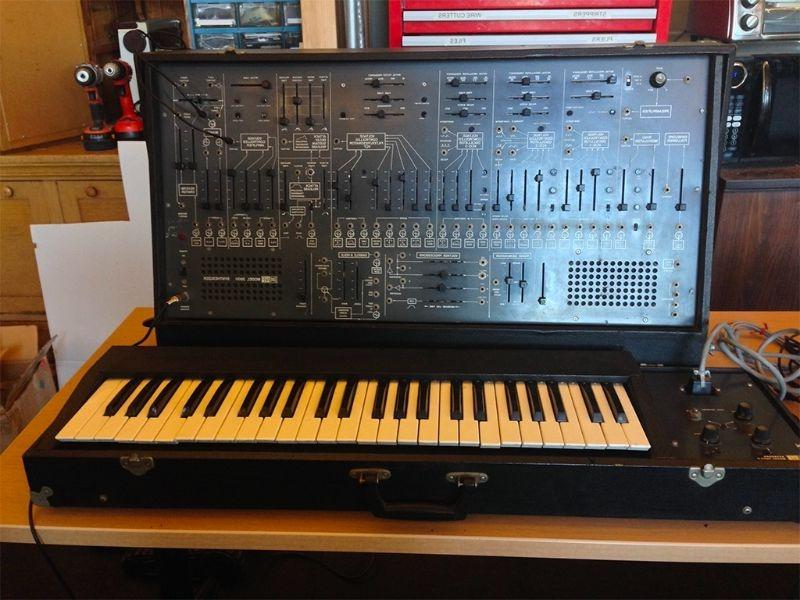synthesizer: (34, 45, 761, 506)
